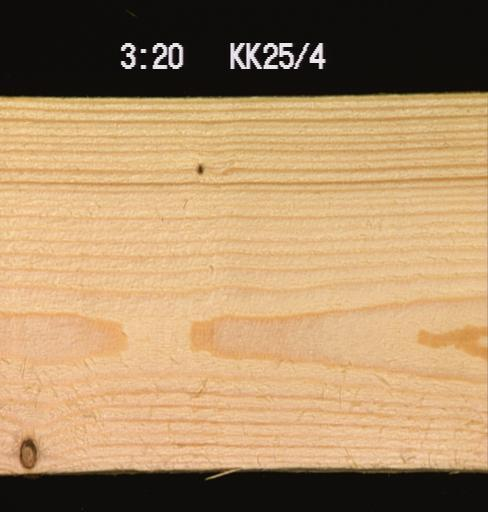small_knot: (193, 159, 204, 175)
